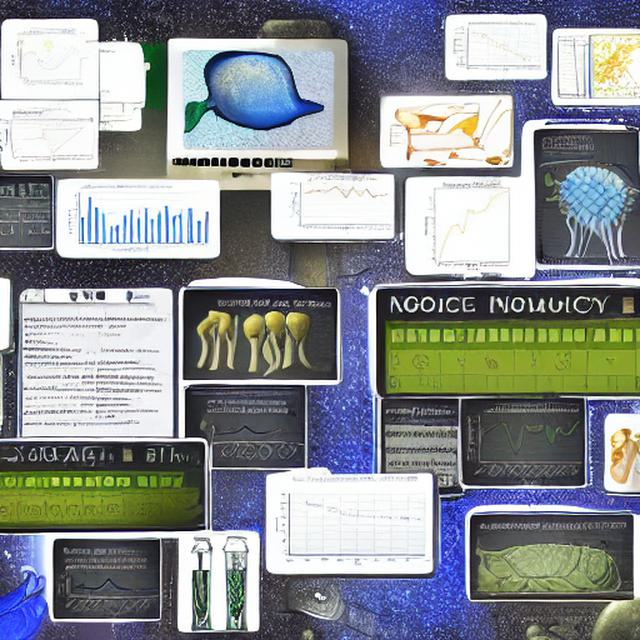Graph: (269, 475, 431, 571), (407, 177, 534, 272), (465, 402, 584, 486), (66, 183, 187, 256), (55, 555, 160, 619), (290, 175, 393, 236), (448, 20, 545, 76)
